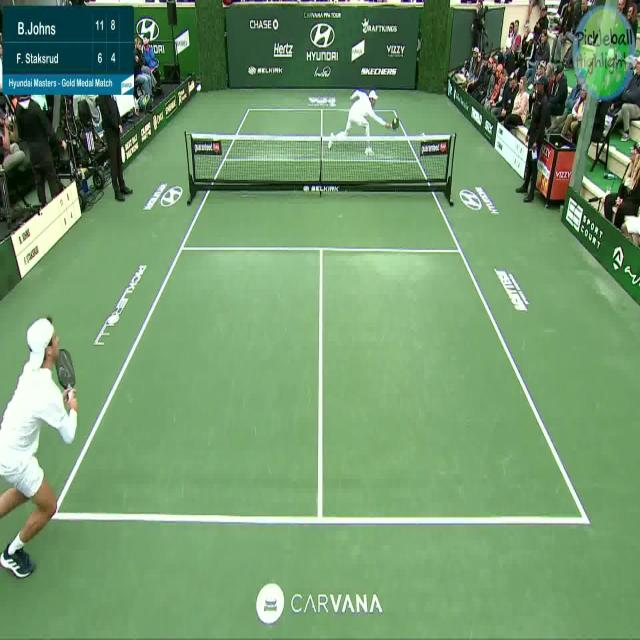ball: (392, 117, 398, 126)
